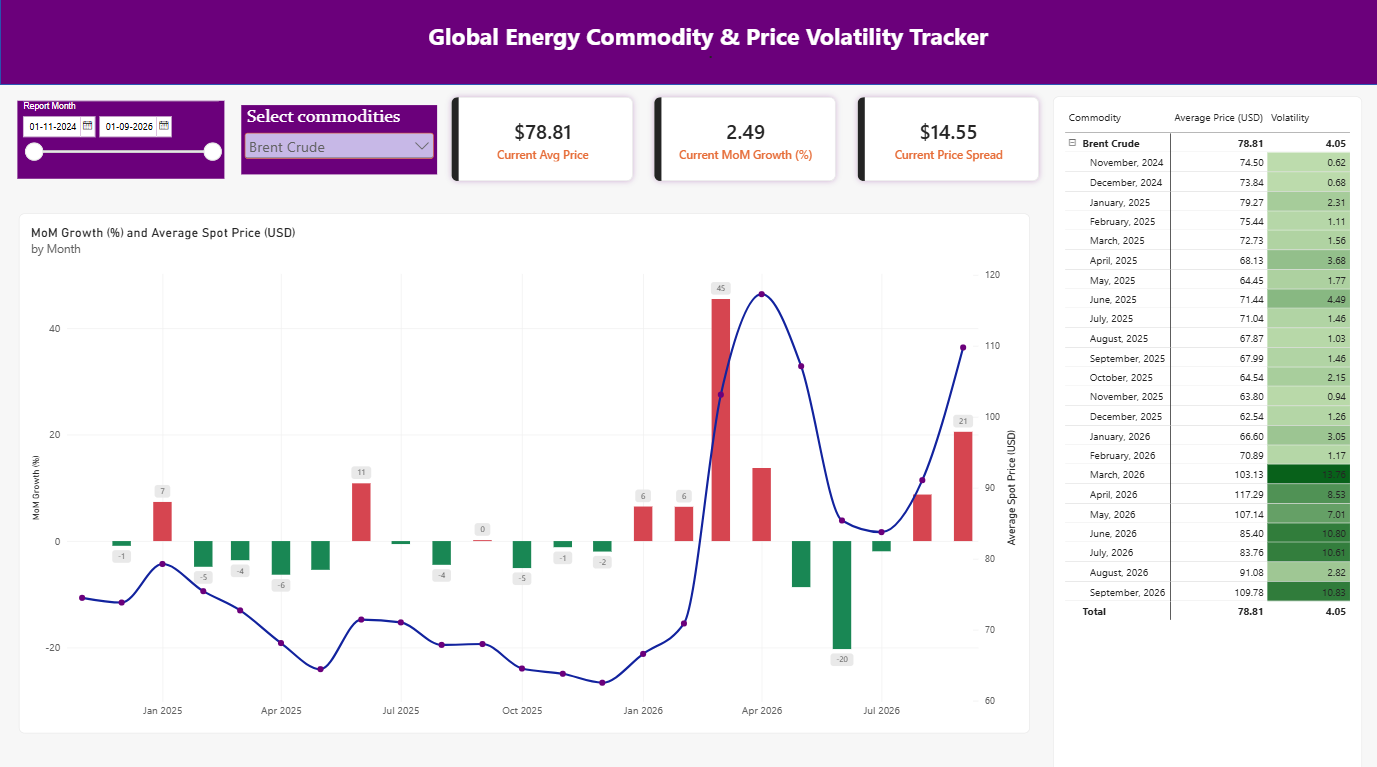

The page's visual inventory and layout, read from the dashboard file:
{"tool":"powerbi","page":{"name":"Page 1","canvas":[1920,1080],"ordinal":0},"visuals":[{"type":"shape","box":[2.5,0,1917.5,120],"z":0},{"type":"cardVisual","fields":{"Data":["energy_market_volatility.Current Avg Price","energy_market_volatility.Current MoM Growth","energy_market_volatility.Current Spread"]},"box":[606.7,126.7,836,138],"z":1000},{"type":"lineClusteredColumnComboChart","fields":{"Category":["energy_market_volatility.report_month"],"Y":["Avg(energy_market_volatility.mom_growth_pct)"],"Y2":["Avg(energy_market_volatility.avg_monthly_price)"]},"box":[27.1,297.1,1400,720],"z":2000},{"type":"slicer","fields":{"Values":["energy_market_volatility.commodity_name"]},"box":[335.4,147.7,271.4,95.7],"z":3000},{"type":"slicer","fields":{"Values":["energy_market_volatility.report_month"]},"box":[26.9,142.3,286.7,108.3],"z":4000},{"type":"textbox","box":[436.2,30,1093.8,90],"z":5000},{"type":"pivotTable","fields":{"Rows":["energy_market_volatility.commodity_name","energy_market_volatility.report_month"],"Values":["Avg(energy_market_volatility.avg_monthly_price)","Avg(energy_market_volatility.monthly_volatility)"]},"box":[1460,135.6,434.4,881.1],"z":6000}]}

Visuals, with their boxes in screenshot pixels (x1, y1, x2, y2), scaled from the page's 1920x1080 canvas onto the 1377x767 screenshot:
shape: 2:0:1376:85
cardVisual - energy_market_volatility.Current Avg Price x energy_market_volatility.Current MoM Growth: 435:90:1035:188
lineClusteredColumnComboChart - energy_market_volatility.report_month x Avg(energy_market_volatility.mom_growth_pct): 19:211:1023:722
slicer - energy_market_volatility.commodity_name: 241:105:435:173
slicer - energy_market_volatility.report_month: 19:101:225:178
textbox: 313:21:1097:85
pivotTable - energy_market_volatility.commodity_name x energy_market_volatility.report_month: 1047:96:1359:722
